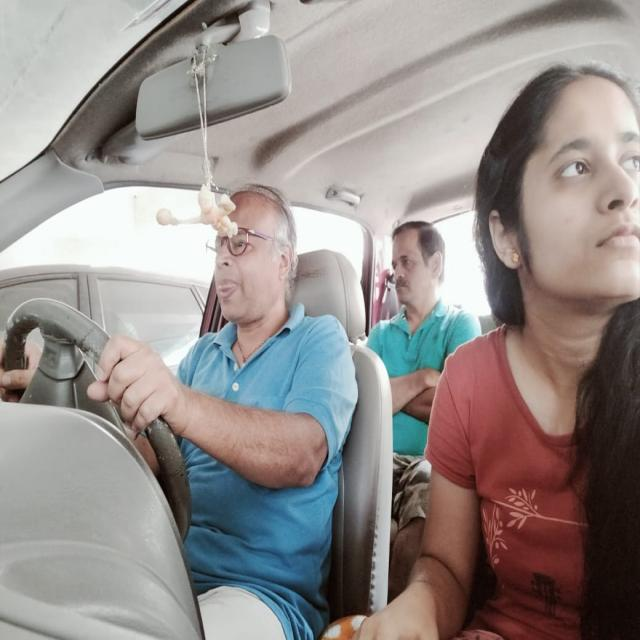person: (479, 66, 640, 343), (208, 172, 299, 338), (386, 205, 452, 320)
